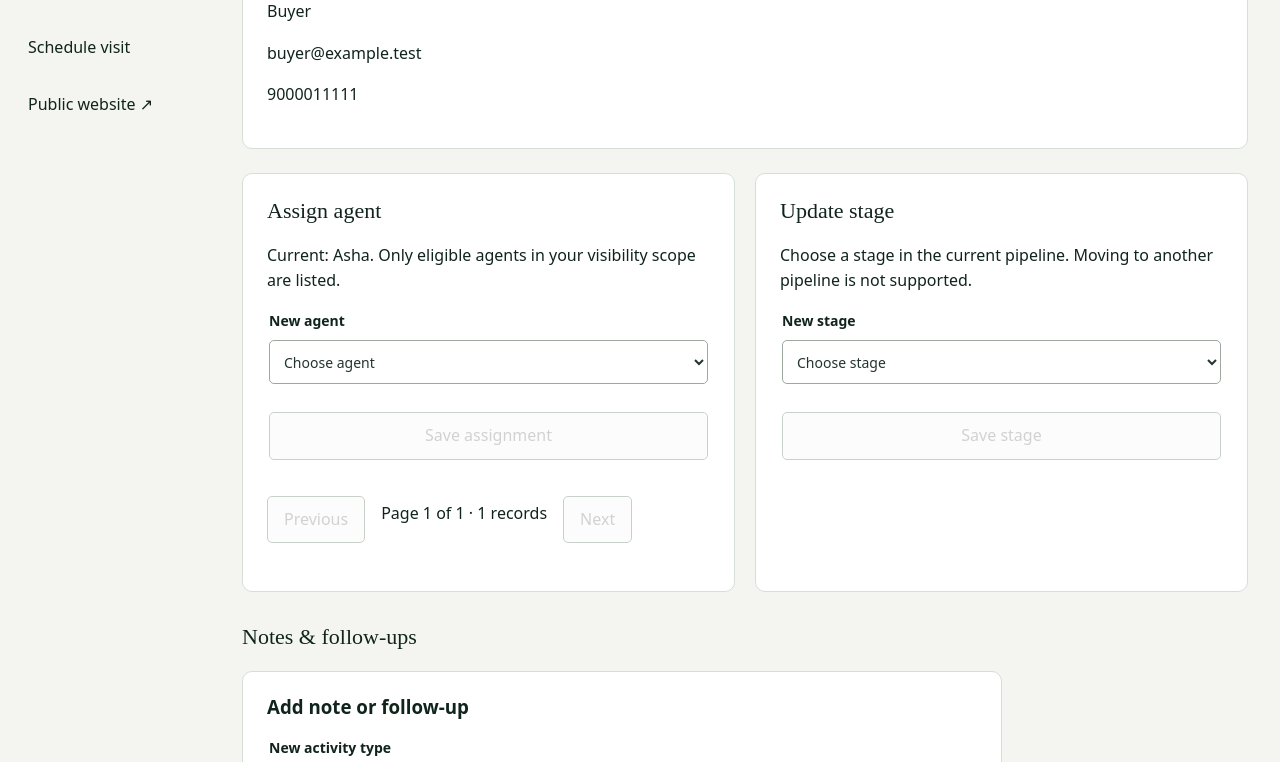
Scenario: keeps stage draft and reports backend validation failures
The width and height of the screenshot is (1280, 762).
(page scrolled)
Select "Won" in the dropdown labelled "New stage" at {"x": 1002, "y": 362}, box [782,340,1221,384]
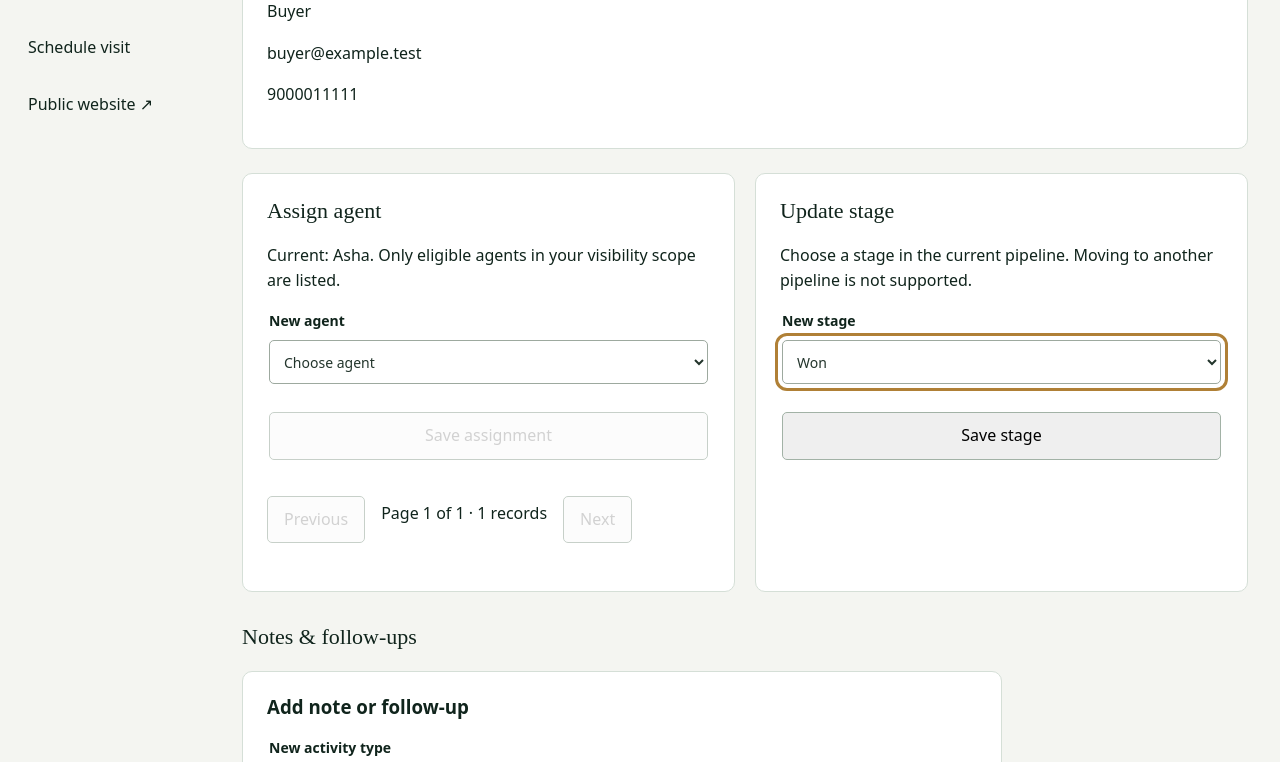
Click the button "Save stage".
click(1002, 436)  # box [782,412,1221,460]
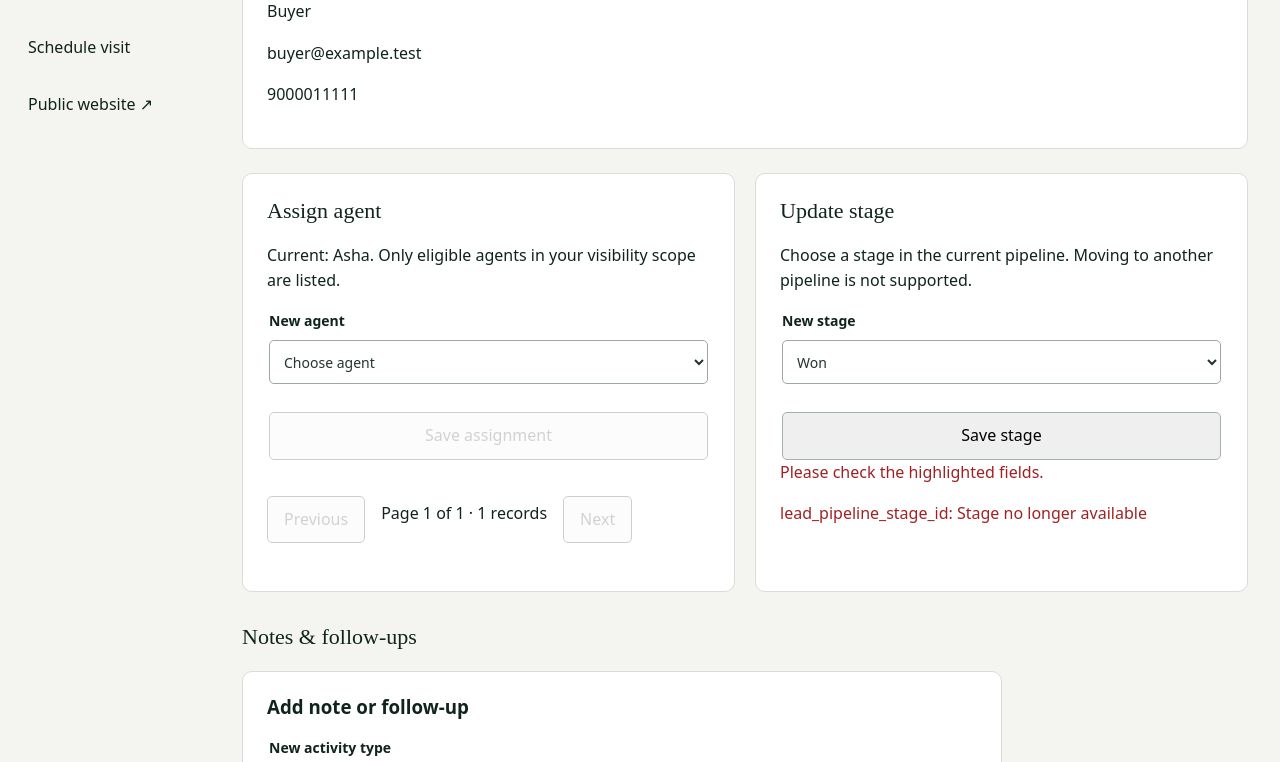
Check: the text "lead_pipeline_stage_id: Stage no longer available" is shown, box [780,502,1147,524]
